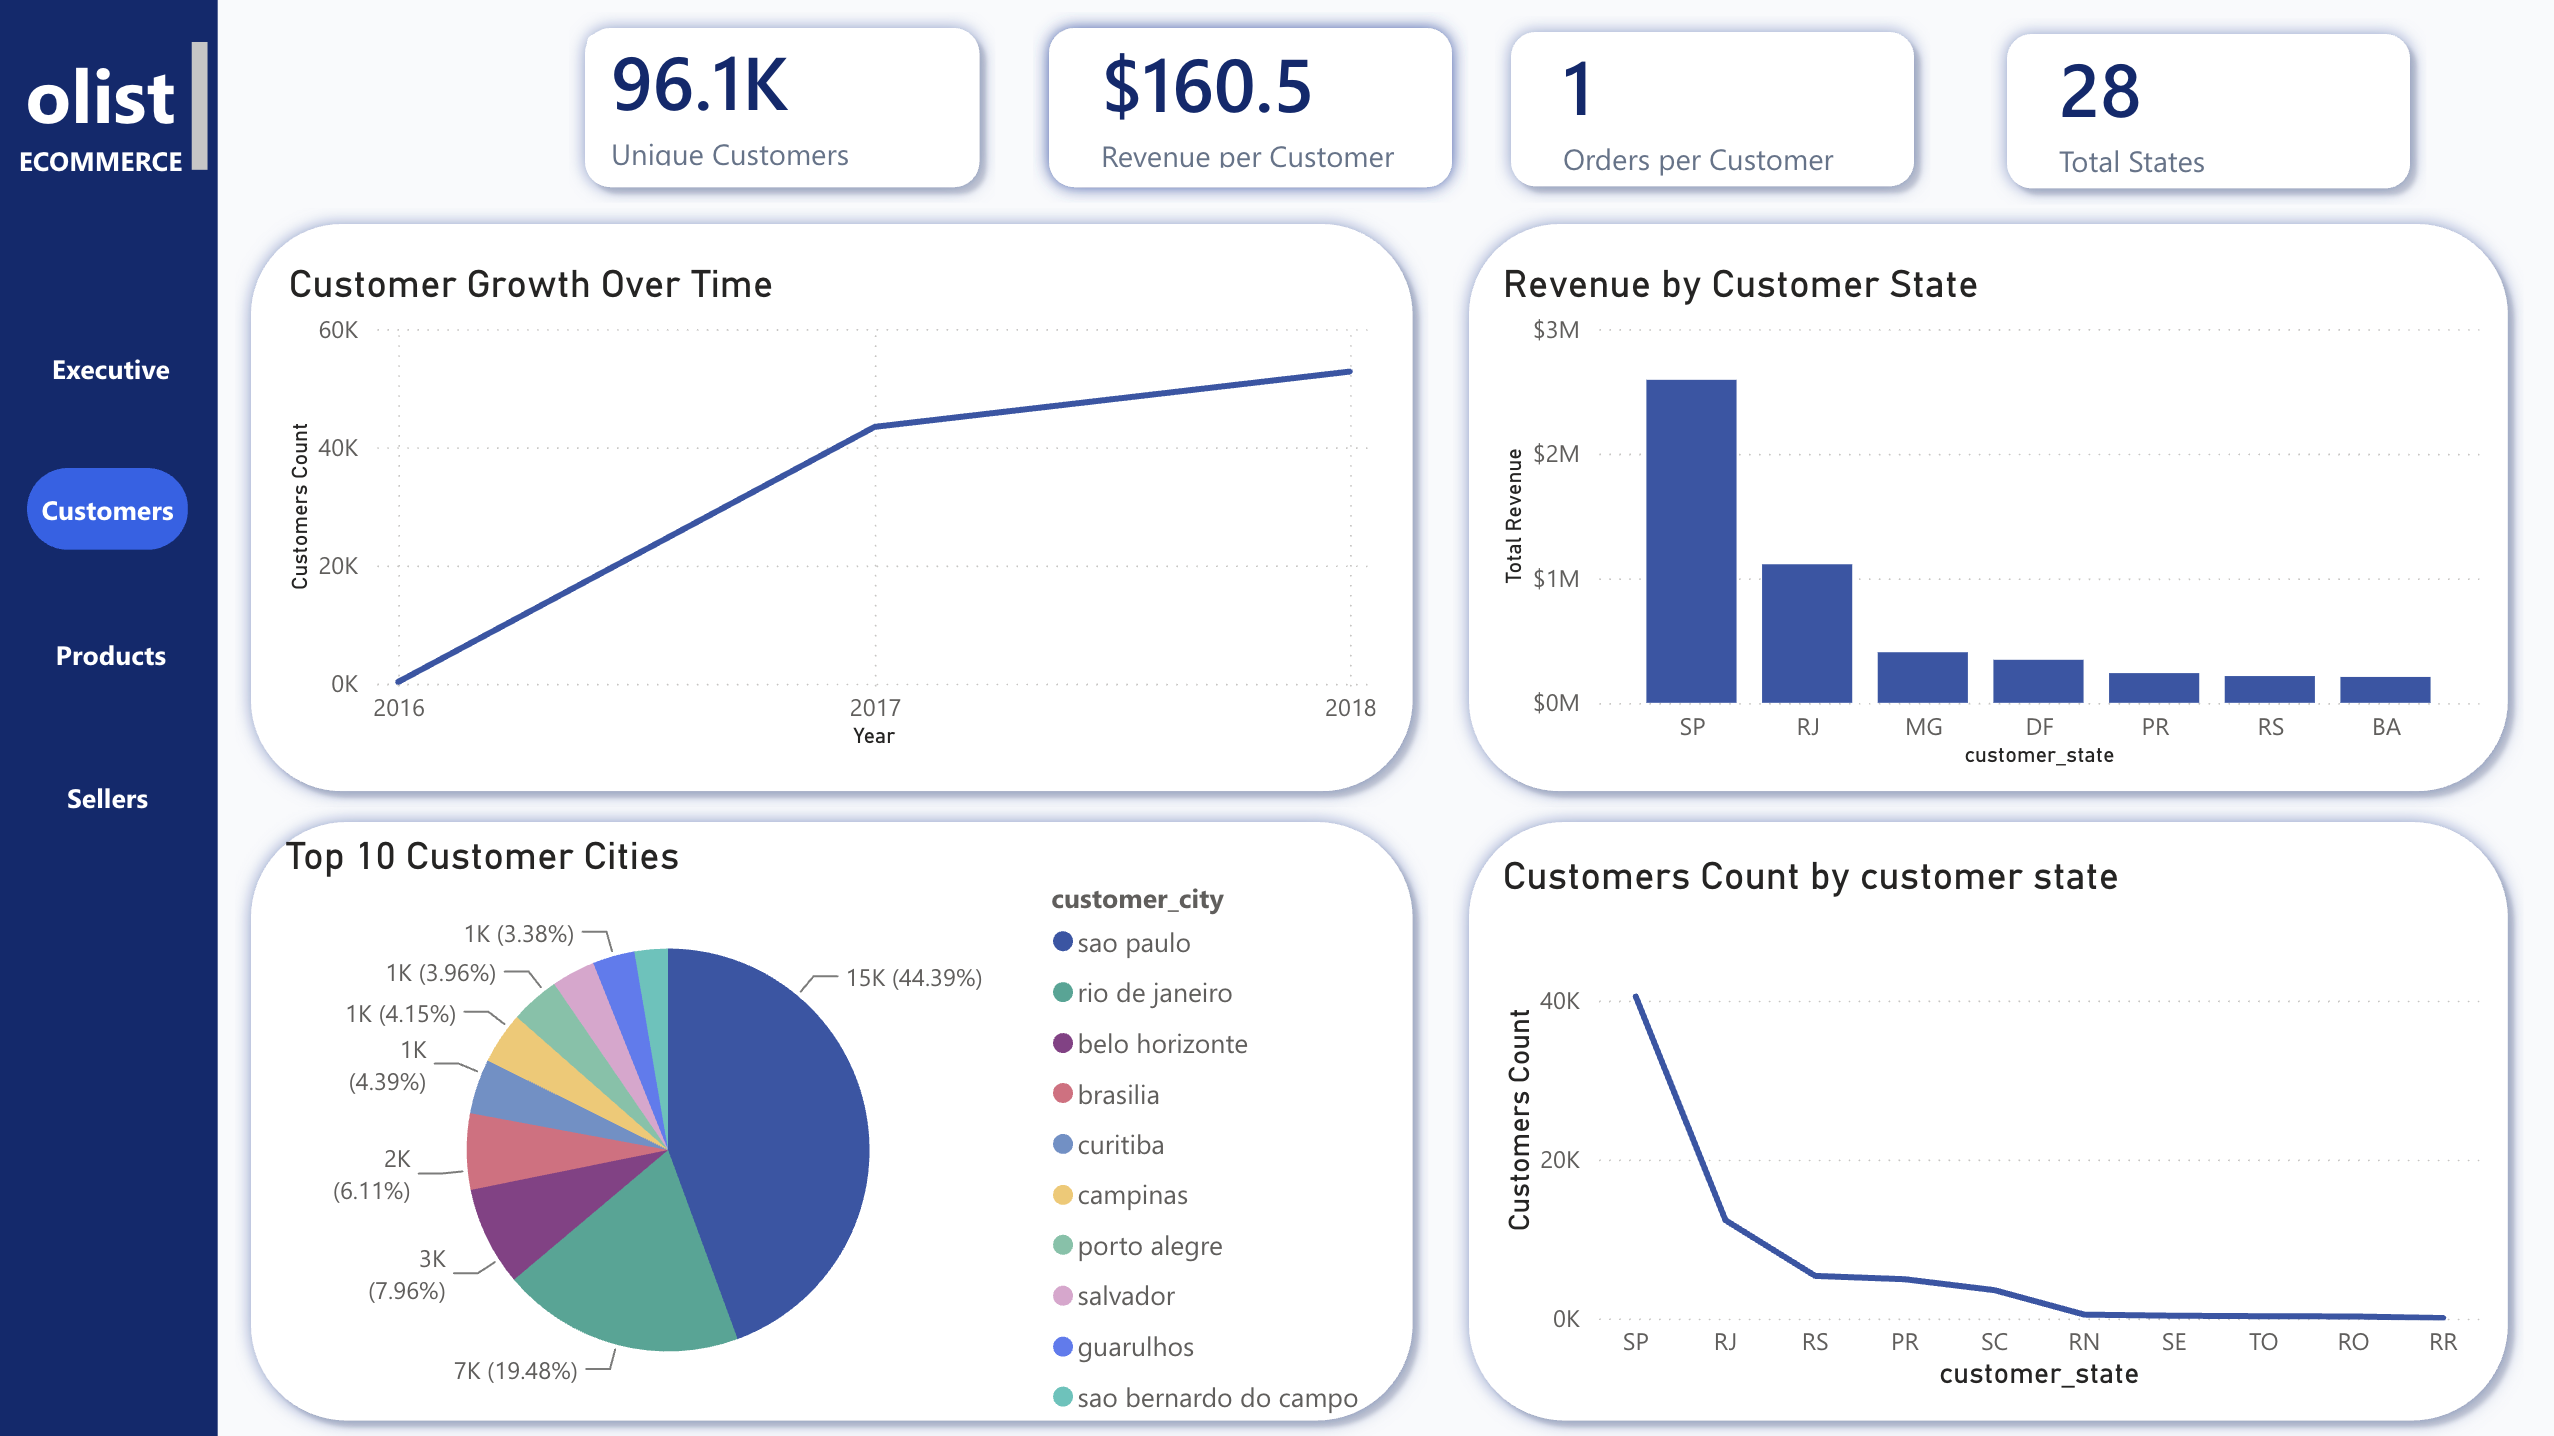

Layout of this report page (visuals, bound fields, positions):
{"tool":"powerbi","page":{"name":"Customer Analytics","canvas":[1280,720],"ordinal":1},"visuals":[{"type":"shape","box":[285.2,7.1,213.5,95.7],"z":0,"group":"g7"},{"type":"shape","box":[517.3,7.5,217.8,95.7],"z":0,"group":"g5"},{"type":"shape","box":[748.4,9.5,217.8,93.3],"z":0,"group":"g8"},{"type":"shape","box":[997.6,10.7,217.8,93.3],"z":0,"group":"g9"},{"type":"group","id":"g1","title":"Group 1","box":[118.1,104.8,597.6,300],"z":0},{"type":"shape","box":[118.1,104.8,597.6,300],"z":0,"group":"g1"},{"type":"shape","box":[727.7,104.8,536.1,300],"z":0,"group":"g3"},{"type":"shape","box":[118.1,404.8,597.6,315.7],"z":0,"group":"g2"},{"type":"shape","box":[727.7,404.8,536.1,315.7],"z":0,"group":"g6"},{"type":"cardVisual","fields":{"Data":["Measures (2).Orders per Customer"]},"box":[758,6,203.2,95.7],"z":1000,"group":"g8"},{"type":"cardVisual","fields":{"Data":["Measures (2).Unique Customers"]},"box":[281.9,6.5,216.5,90.9],"z":1000,"group":"g7"},{"type":"cardVisual","fields":{"Data":["Measures (2).Revenue per Customer"]},"box":[527.2,7.1,202.1,90.9],"z":1000,"group":"g5"},{"type":"cardVisual","fields":{"Data":["Measures (2).Total States"]},"box":[1007.2,7.2,203.2,95.7],"z":1000,"group":"g9"},{"type":"group","id":"g2","title":"Group 1","box":[118.1,404.8,597.6,315.7],"z":1000},{"type":"group","id":"g3","title":"Group 1","box":[727.7,104.8,536.1,300],"z":2000},{"type":"shape","box":[0,0,109.6,720.5],"z":3000},{"type":"textbox","box":[0,16.9,109.6,75.9],"z":4000},{"type":"actionButton","box":[15.7,165.1,80,40],"z":5000},{"type":"actionButton","box":[14.5,234.9,80.7,41],"z":6000},{"type":"actionButton","box":[14.5,379.5,80.7,41],"z":7000},{"type":"actionButton","box":[15.7,308.4,80,40],"z":8000},{"type":"group","id":"g4","title":"Group 3","box":[281.9,6,931.3,97.6],"z":9000},{"type":"group","id":"g5","title":"Group 1","box":[517.3,7.1,217.8,95.7],"z":10000,"group":"g4"},{"type":"group","id":"g6","title":"Group 1","box":[727.7,404.8,536.1,315.7],"z":10000},{"type":"group","id":"g7","title":"Group 2","box":[281.9,6.5,216.8,96.3],"z":11000,"group":"g4"},{"type":"lineChart","title":"Customer Growth Over Time","fields":{"Category":["dim_date.date_key.Variation.Date Hierarchy.Year","dim_date.date_key.Variation.Date Hierarchy.Month"],"Y":["Measures (2).Customers Count"]},"box":[139.8,133.7,554.2,245.8],"z":11000},{"type":"group","id":"g8","title":"Group 1","box":[748.4,6,217.8,96.8],"z":12000,"group":"g4"},{"type":"clusteredColumnChart","title":"Revenue by Customer State","fields":{"Y":["fact_sales.Total Revenue"],"Category":["dim_customer.customer_state"]},"box":[748.2,133.7,498.8,255.4],"z":12000},{"type":"group","id":"g9","title":"Group 1","box":[997.6,7.2,217.8,96.8],"z":13000},{"type":"pieChart","title":"Top 10 Customer Cities","fields":{"Category":["dim_customer.customer_city"],"Y":["Measures (2).Customers Count"]},"box":[138.6,420.5,556.6,300],"z":14000},{"type":"lineChart","title":"Customers Count by customer state","fields":{"Category":["dim_customer.customer_state"],"Y":["Measures (2).Customers Count"]},"box":[748.2,430.1,498.8,271.1],"z":15000}]}

Visuals, with their boxes on the page's 1280x720 design canvas (x1, y1, x2, y2). These are canvas units, not pixel positions in the 2554x1436 screenshot, which may show the page scaled, cropped or inside an application window:
shape: <box>285,7,499,103</box>
shape: <box>517,8,735,103</box>
shape: <box>748,10,966,103</box>
shape: <box>998,11,1215,104</box>
"Group 1" group: <box>118,105,716,405</box>
shape: <box>118,105,716,405</box>
shape: <box>728,105,1264,405</box>
shape: <box>118,405,716,720</box>
shape: <box>728,405,1264,720</box>
cardVisual - Measures (2).Orders per Customer: <box>758,6,961,102</box>
cardVisual - Measures (2).Unique Customers: <box>282,6,498,97</box>
cardVisual - Measures (2).Revenue per Customer: <box>527,7,729,98</box>
cardVisual - Measures (2).Total States: <box>1007,7,1210,103</box>
"Group 1" group: <box>118,405,716,720</box>
"Group 1" group: <box>728,105,1264,405</box>
shape: <box>0,0,110,720</box>
textbox: <box>0,17,110,93</box>
actionButton: <box>16,165,96,205</box>
actionButton: <box>14,235,95,276</box>
actionButton: <box>14,380,95,420</box>
actionButton: <box>16,308,96,348</box>
"Group 3" group: <box>282,6,1213,104</box>
"Group 1" group: <box>517,7,735,103</box>
"Group 1" group: <box>728,405,1264,720</box>
"Group 2" group: <box>282,6,499,103</box>
"Customer Growth Over Time" lineChart: <box>140,134,694,380</box>
"Group 1" group: <box>748,6,966,103</box>
"Revenue by Customer State" clusteredColumnChart: <box>748,134,1247,389</box>
"Group 1" group: <box>998,7,1215,104</box>
"Top 10 Customer Cities" pieChart: <box>139,420,695,720</box>
"Customers Count by customer state" lineChart: <box>748,430,1247,701</box>
